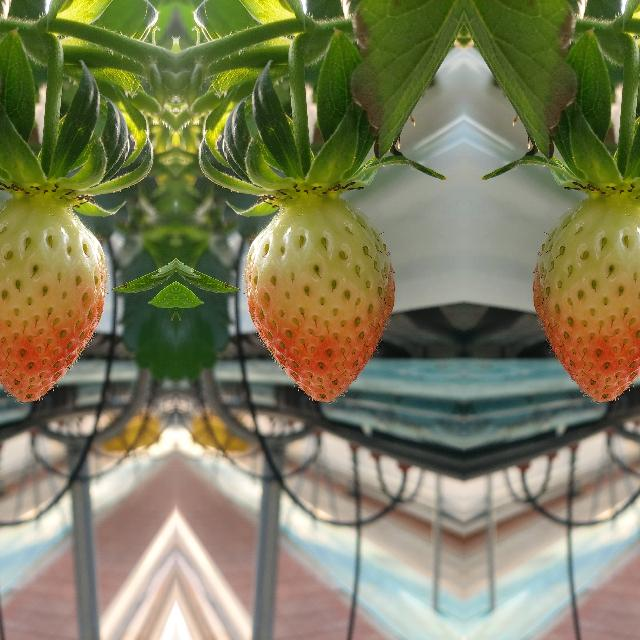Health_50: (242, 196, 396, 404), (530, 196, 640, 404), (0, 196, 107, 404)
